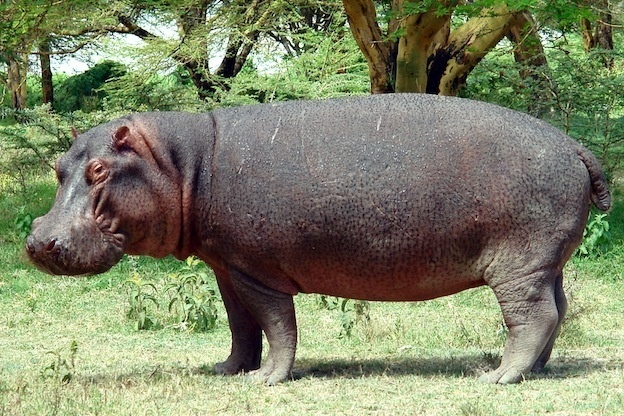hipopotamo: (10, 82, 617, 389)
